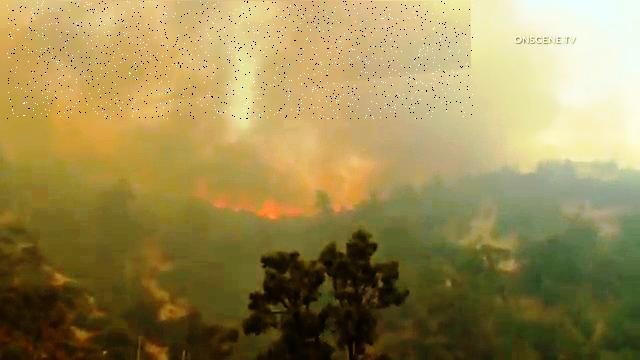smoke: (8, 2, 474, 120)
